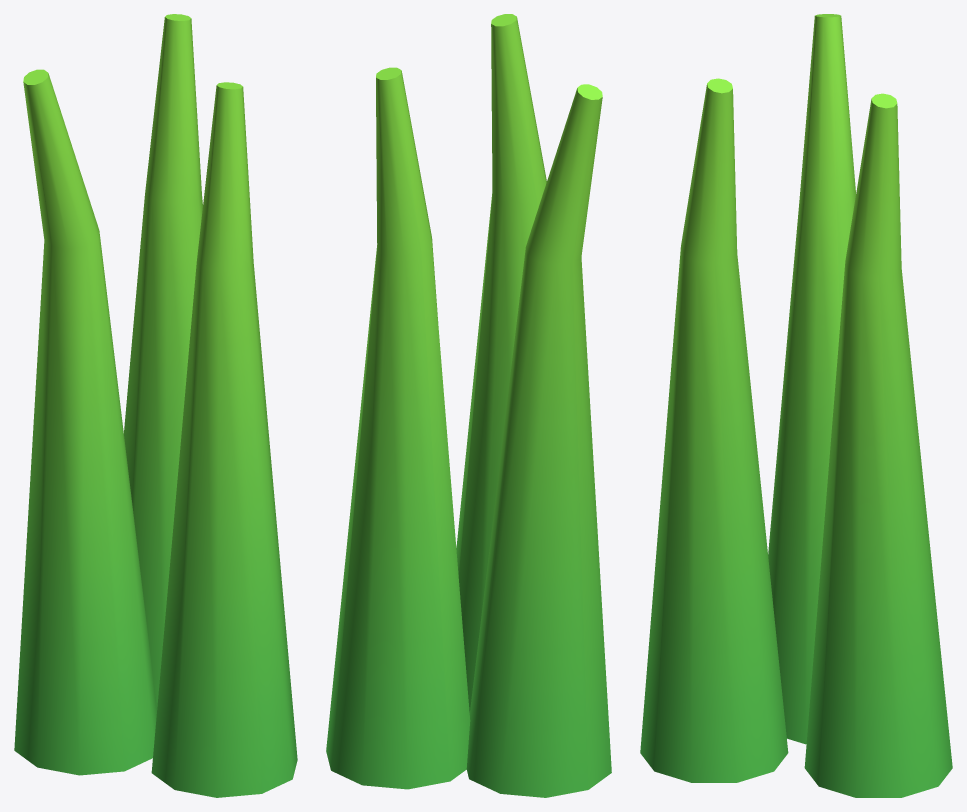
The model's file is Grass_B.fbx.
3 renders of one model, left to right at view 1: azimuth 30°, elevation 25°; view 2: azimuth 150°, elevation 25°; view 3: azimuth 270°, elevation 25°, orthographic.
Parts seen in each view (by area): view 1: Grass_B; view 2: Grass_B; view 3: Grass_B.
Part boxes in pixels (bbox=[...]): Grass_B: bbox=[14, 14, 297, 797]; Grass_B: bbox=[326, 14, 611, 797]; Grass_B: bbox=[640, 14, 952, 797].
Size of the model in its own units: 39.96 by 111 by 46.49.
